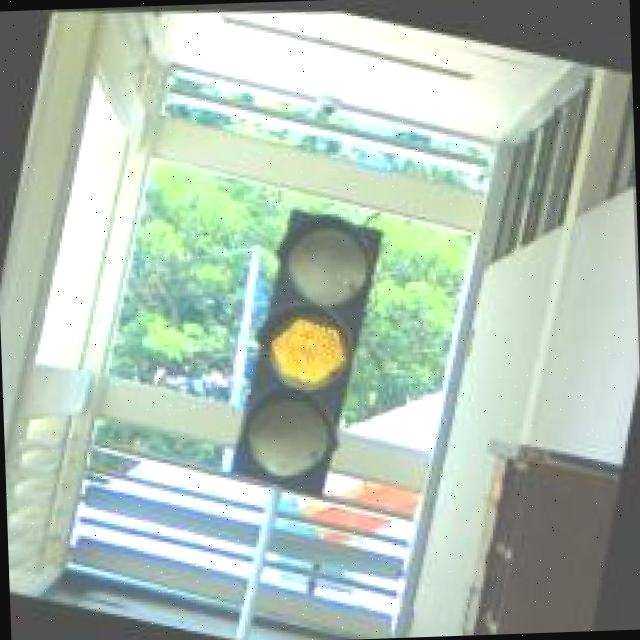yellow_light: (216, 194, 396, 506)
